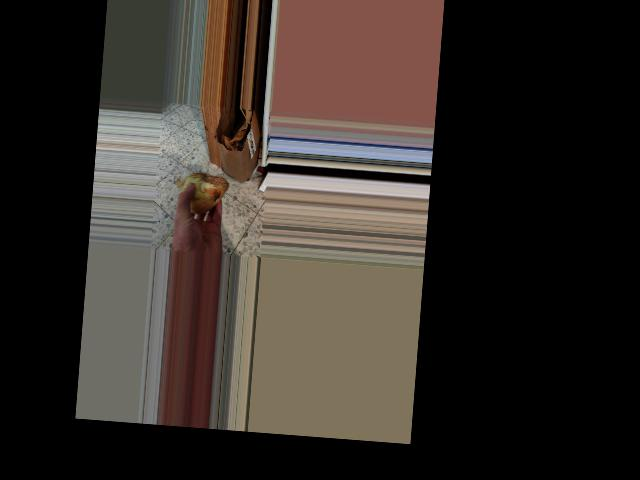onion: (175, 164, 229, 220)
